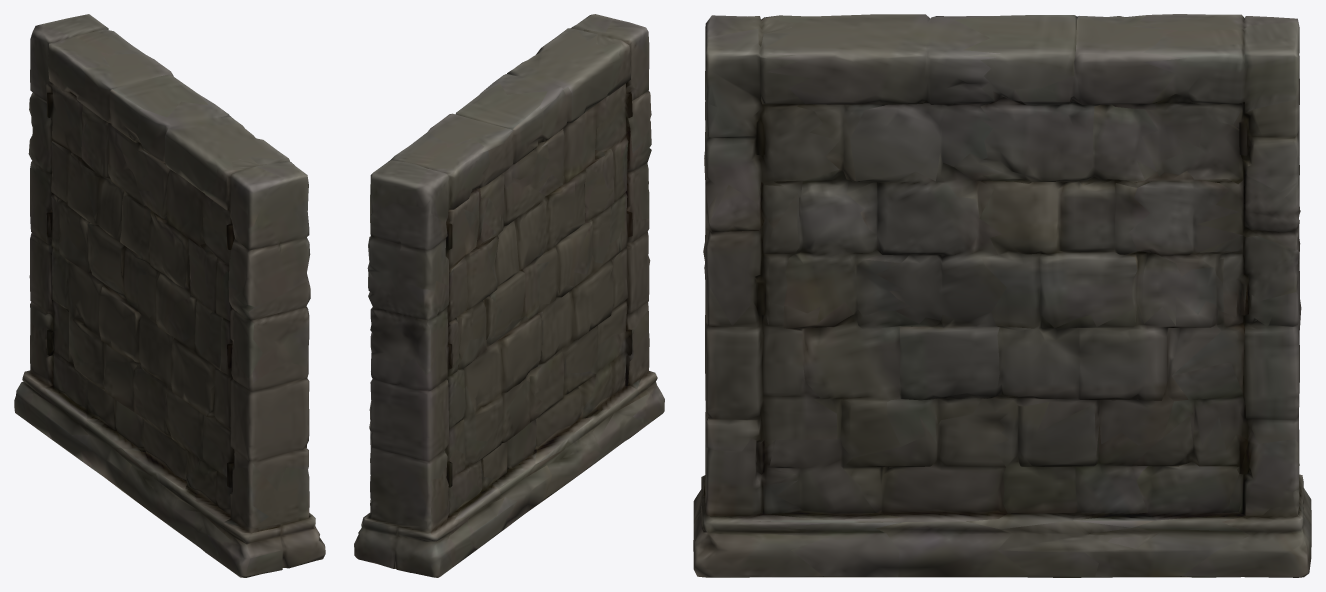
The model's file is false-wall-panel.glb.
3 renders of one model, left to right at view 1: azimuth 30°, elevation 25°; view 2: azimuth 150°, elevation 25°; view 3: azimuth 270°, elevation 25°, orthographic. The views are drawn at different scales.
Visible parts, largest first — view 1: tripo_node_66ee2317-e201-4fa9-ac54-bca943a09b45; view 2: tripo_node_66ee2317-e201-4fa9-ac54-bca943a09b45; view 3: tripo_node_66ee2317-e201-4fa9-ac54-bca943a09b45.
Boxes of the visible parts, x1,y1,x2,y2 form: tripo_node_66ee2317-e201-4fa9-ac54-bca943a09b45: [14, 14, 325, 577]; tripo_node_66ee2317-e201-4fa9-ac54-bca943a09b45: [354, 14, 664, 577]; tripo_node_66ee2317-e201-4fa9-ac54-bca943a09b45: [693, 14, 1311, 577].
Size of the model in its own units: 0.2144 by 0.9275 by 1.
1 material, 1 textured.
